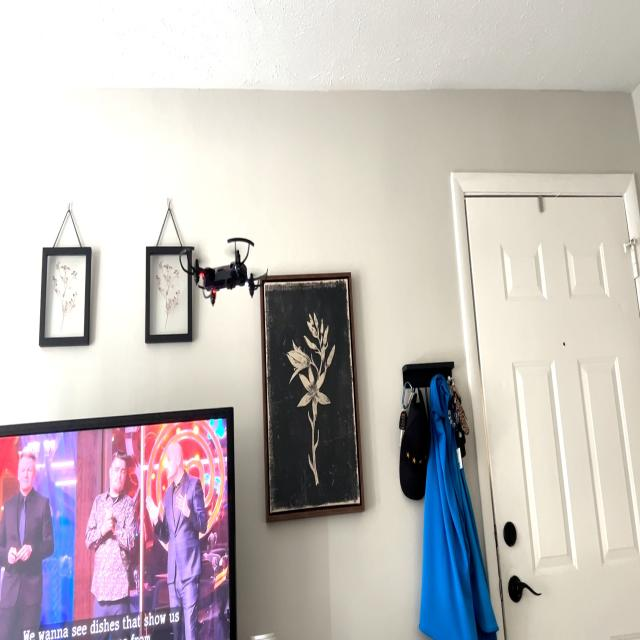drone: (168, 228, 278, 310)
